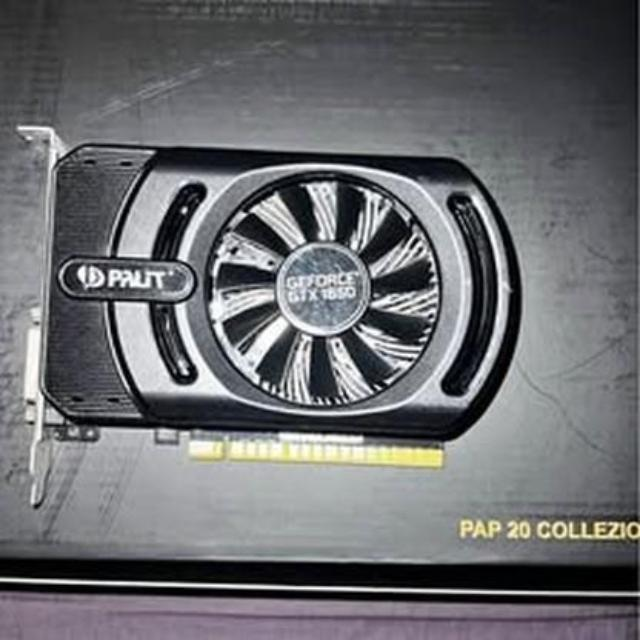GPU: (34, 138, 520, 478)
